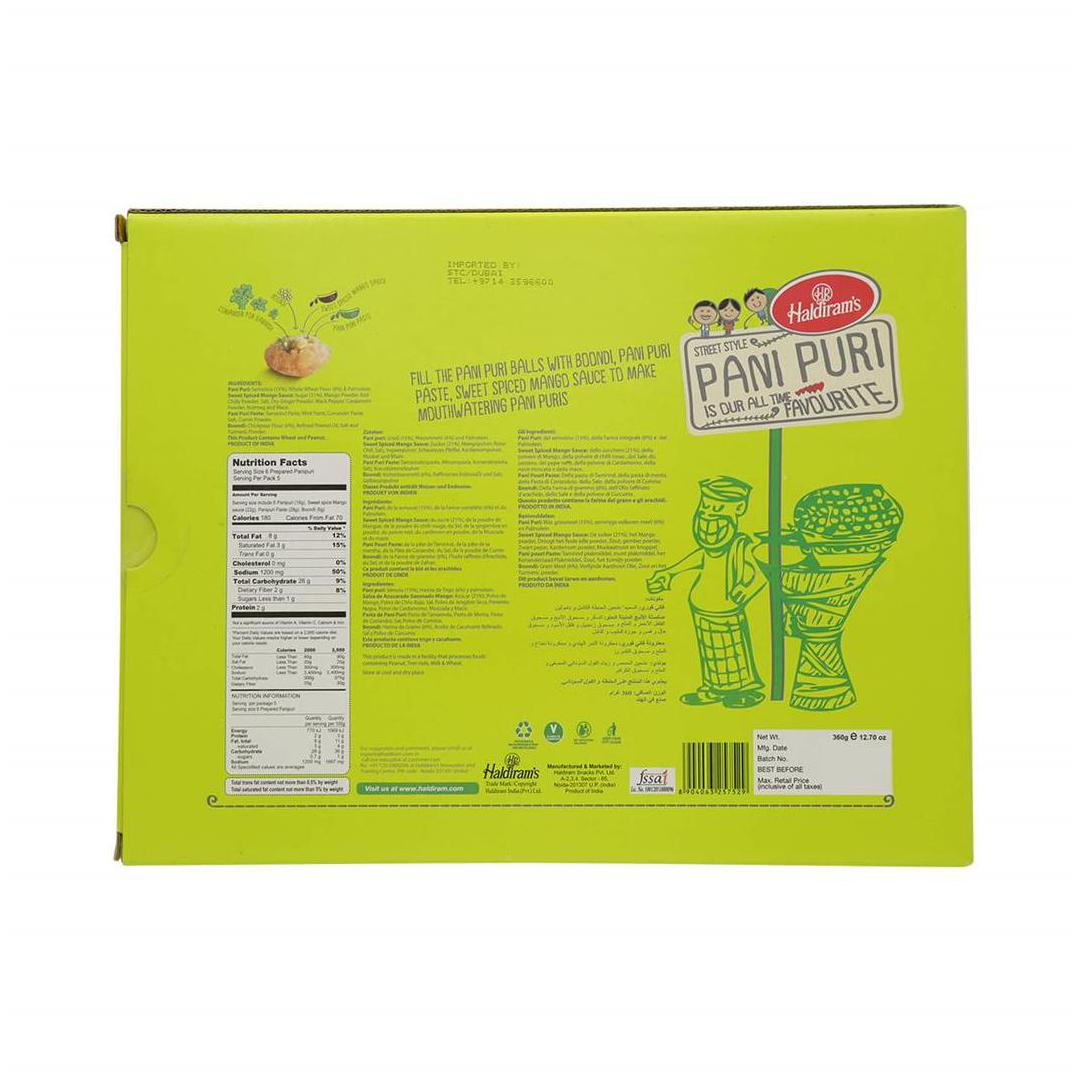fssai: (636, 768, 669, 785)
